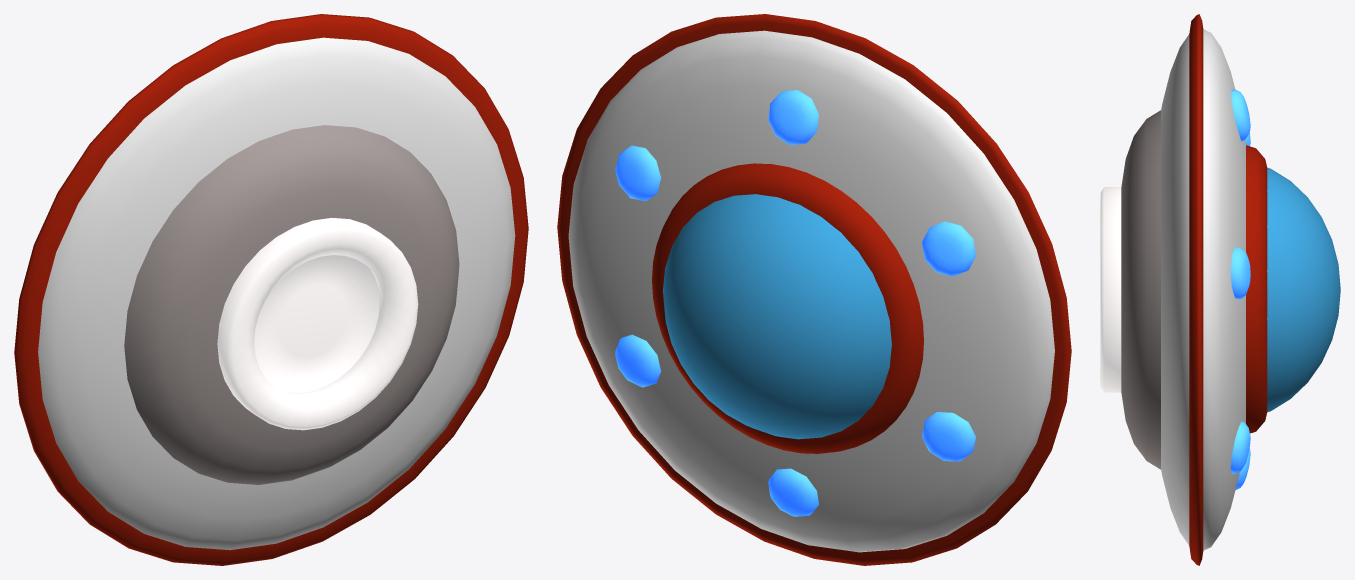
The model's file is ufo.glb.
The picture shows the model from 3 angles, left to right: view 1: azimuth 30°, elevation 25°; view 2: azimuth 150°, elevation 25°; view 3: azimuth 270°, elevation 25°; orthographic projection. The views are drawn at different scales.
Parts seen in each view (by area): view 1: ufo; view 2: ufo; view 3: ufo.
Part boxes in pixels (left/top/right/bottom): ufo: left=14, top=14, right=528, bottom=565; ufo: left=557, top=14, right=1071, bottom=565; ufo: left=1100, top=14, right=1340, bottom=565.
Bounding box in the file's own units: 182 × 182 × 79.24.
